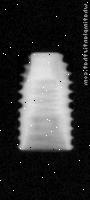Osstem Implant: (17, 51, 73, 151)
